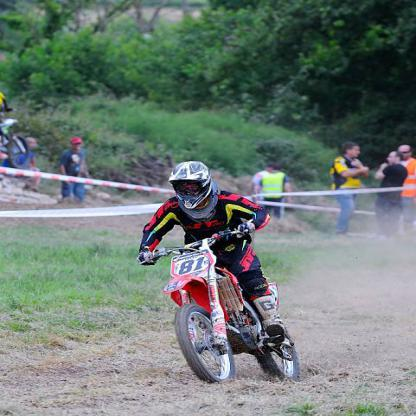Motorcycle: (122, 223, 324, 399)
